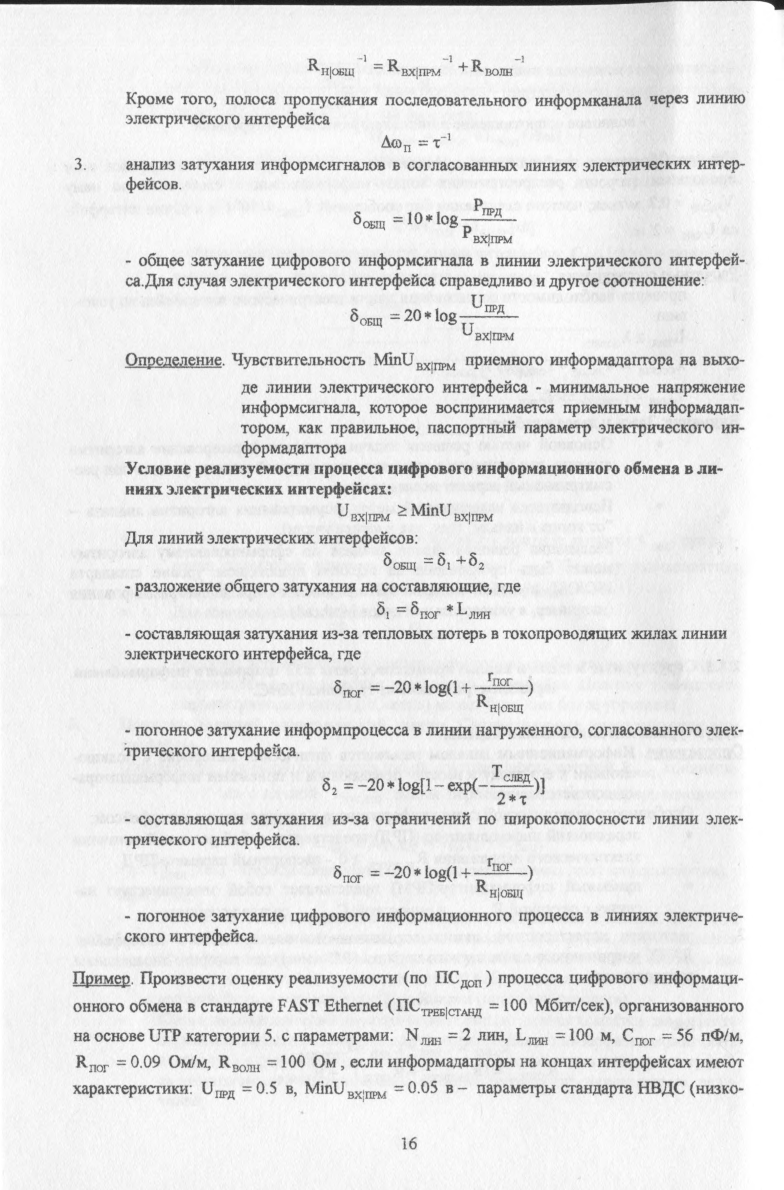C.вх.прм: (389, 54, 444, 78)
L.лин: (455, 597, 498, 620)
P.вх.прм: (460, 226, 520, 247)
P.прд: (470, 197, 507, 218)
R.волн: (470, 57, 516, 76)
R.н.общ: (476, 877, 528, 905), (475, 693, 528, 718), (307, 55, 357, 78)
T.след: (491, 759, 532, 784)
U.вх.прм: (460, 322, 516, 342)
U.прд: (470, 291, 507, 316)
r.пог: (484, 851, 516, 872), (486, 669, 515, 689)
Δω.п: (379, 130, 414, 155)
δ.1: (434, 549, 453, 572), (373, 602, 390, 623)
δ.2: (314, 774, 341, 798), (467, 549, 486, 572)
δ.общ: (348, 202, 389, 232), (345, 305, 384, 328), (379, 551, 418, 571)
δ.пог: (329, 861, 367, 888), (332, 673, 364, 701), (409, 600, 441, 622)
τ: (518, 793, 533, 808), (430, 138, 443, 151)
